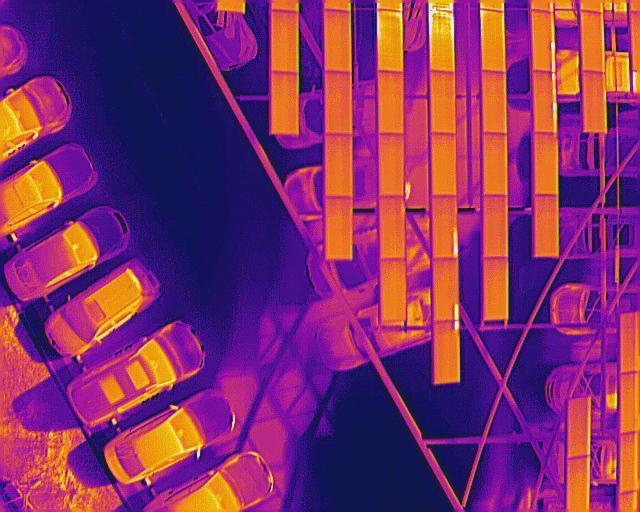No-Anomaly: (269, 12, 300, 73), (269, 74, 300, 133), (324, 134, 353, 197), (324, 70, 353, 133), (324, 197, 353, 259), (380, 259, 407, 322), (324, 10, 352, 70), (483, 258, 510, 320), (380, 195, 406, 259), (484, 194, 510, 257), (533, 194, 559, 257), (432, 133, 458, 196), (379, 134, 405, 196), (481, 9, 506, 70), (584, 72, 609, 132), (433, 72, 457, 134), (380, 72, 404, 134), (582, 11, 606, 73), (484, 134, 508, 195), (535, 133, 559, 194), (484, 71, 506, 133), (619, 432, 640, 494), (621, 371, 640, 434), (621, 311, 640, 374)
Unclassified: (433, 195, 460, 259), (433, 320, 459, 383), (433, 258, 459, 320), (376, 10, 402, 72), (531, 9, 556, 71), (430, 8, 454, 72), (534, 71, 557, 132)
